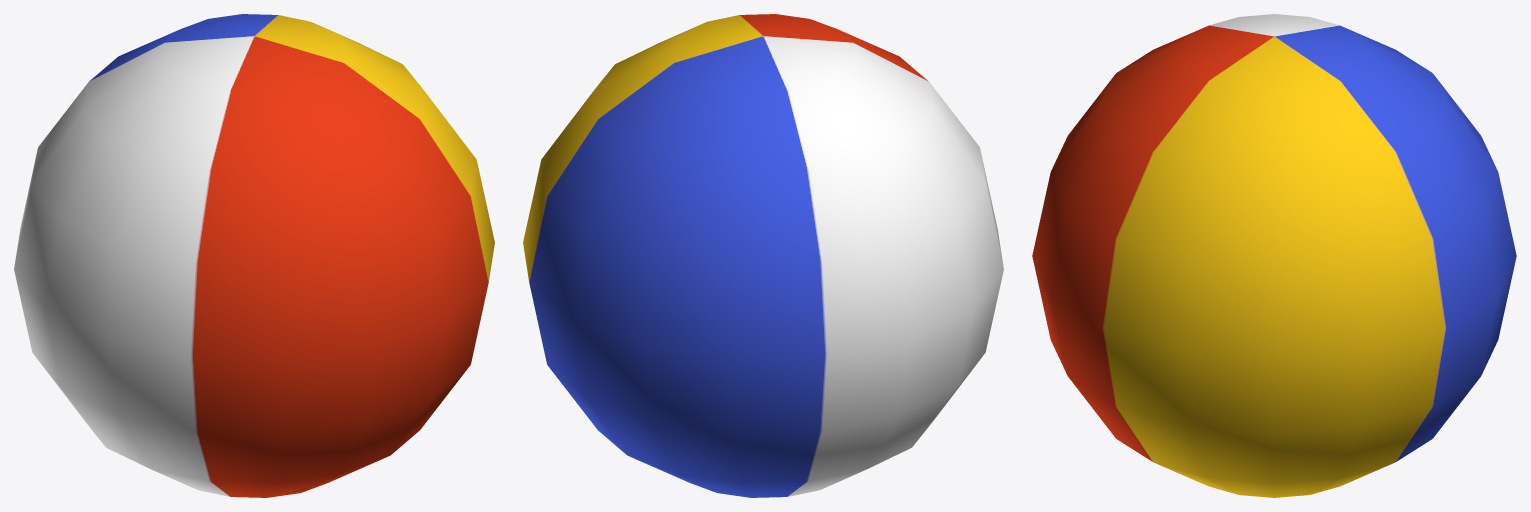
Rendered from beach_ball.glb.
The picture shows the model from 3 angles, left to right: view 1: azimuth 30°, elevation 25°; view 2: azimuth 150°, elevation 25°; view 3: azimuth 270°, elevation 25°; orthographic projection.
Visible parts, largest first — view 1: Sphere.008; view 2: Sphere.008; view 3: Sphere.008.
Boxes of the visible parts, x1,y1,x2,y2 form: Sphere.008: (14,14,494,497); Sphere.008: (523,14,1003,497); Sphere.008: (1032,14,1516,497).
Size of the model in its own units: 1 by 1 by 1.
Materials: 1 (1 with a texture image).
